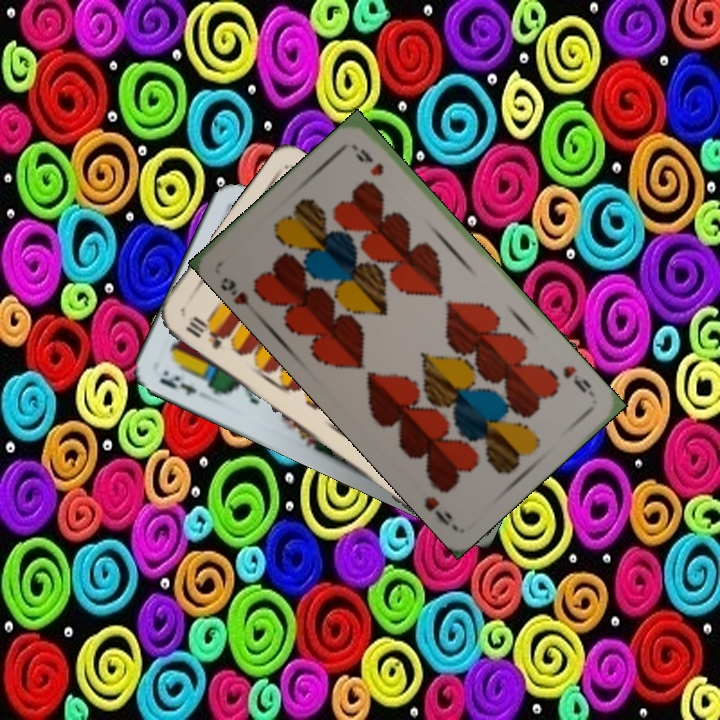E10: (182, 311, 236, 352)
EK: (154, 371, 199, 398)
H9: (216, 273, 252, 308), (558, 361, 594, 396)
